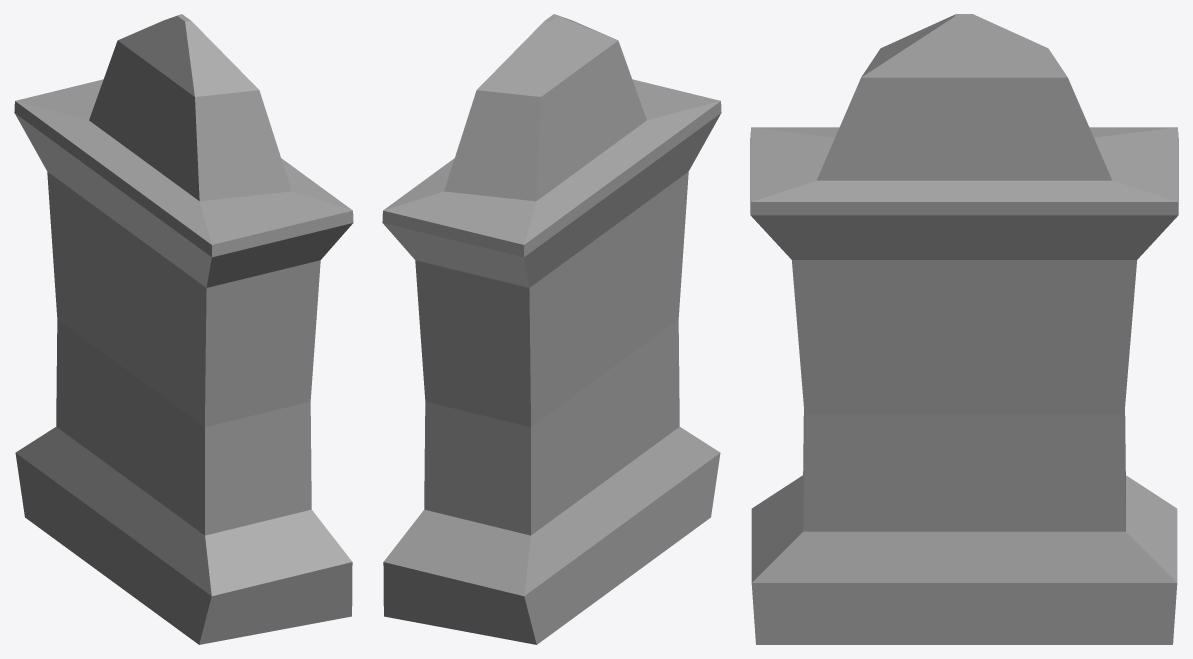
Rendered from tombstone2.fbx.
3 views of the same model, side by side, from view 1: azimuth 30°, elevation 25°; view 2: azimuth 150°, elevation 25°; view 3: azimuth 270°, elevation 25° (orthographic). The views are drawn at different scales.
Visible parts, largest first — view 1: tombstone2; view 2: tombstone2; view 3: tombstone2.
Boxes of the visible parts, x1,y1,x2,y2 form: tombstone2: (14,14,353,644); tombstone2: (382,14,721,644); tombstone2: (750,14,1178,644).
Size of the model in its own units: 94.04 by 341 by 224.
